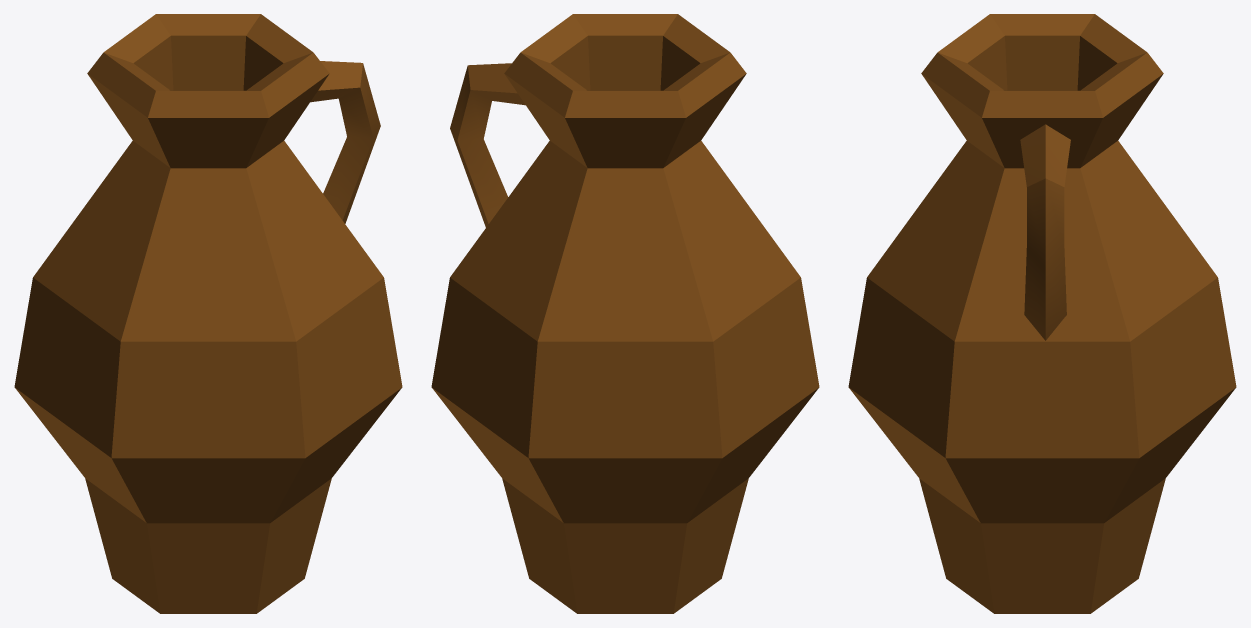
Rendered from SM_jug_01.fbx.
3 views of the same model, side by side, from view 1: azimuth 30°, elevation 25°; view 2: azimuth 150°, elevation 25°; view 3: azimuth 270°, elevation 25° (orthographic).
Parts seen in each view (by area): view 1: Cylinder025; view 2: Cylinder025; view 3: Cylinder025.
Part boxes in pixels (bbox=[...]): Cylinder025: bbox=[14, 14, 402, 613]; Cylinder025: bbox=[431, 14, 819, 613]; Cylinder025: bbox=[848, 14, 1236, 613].
Size of the model in its own units: 18.64 by 29.35 by 19.61.
